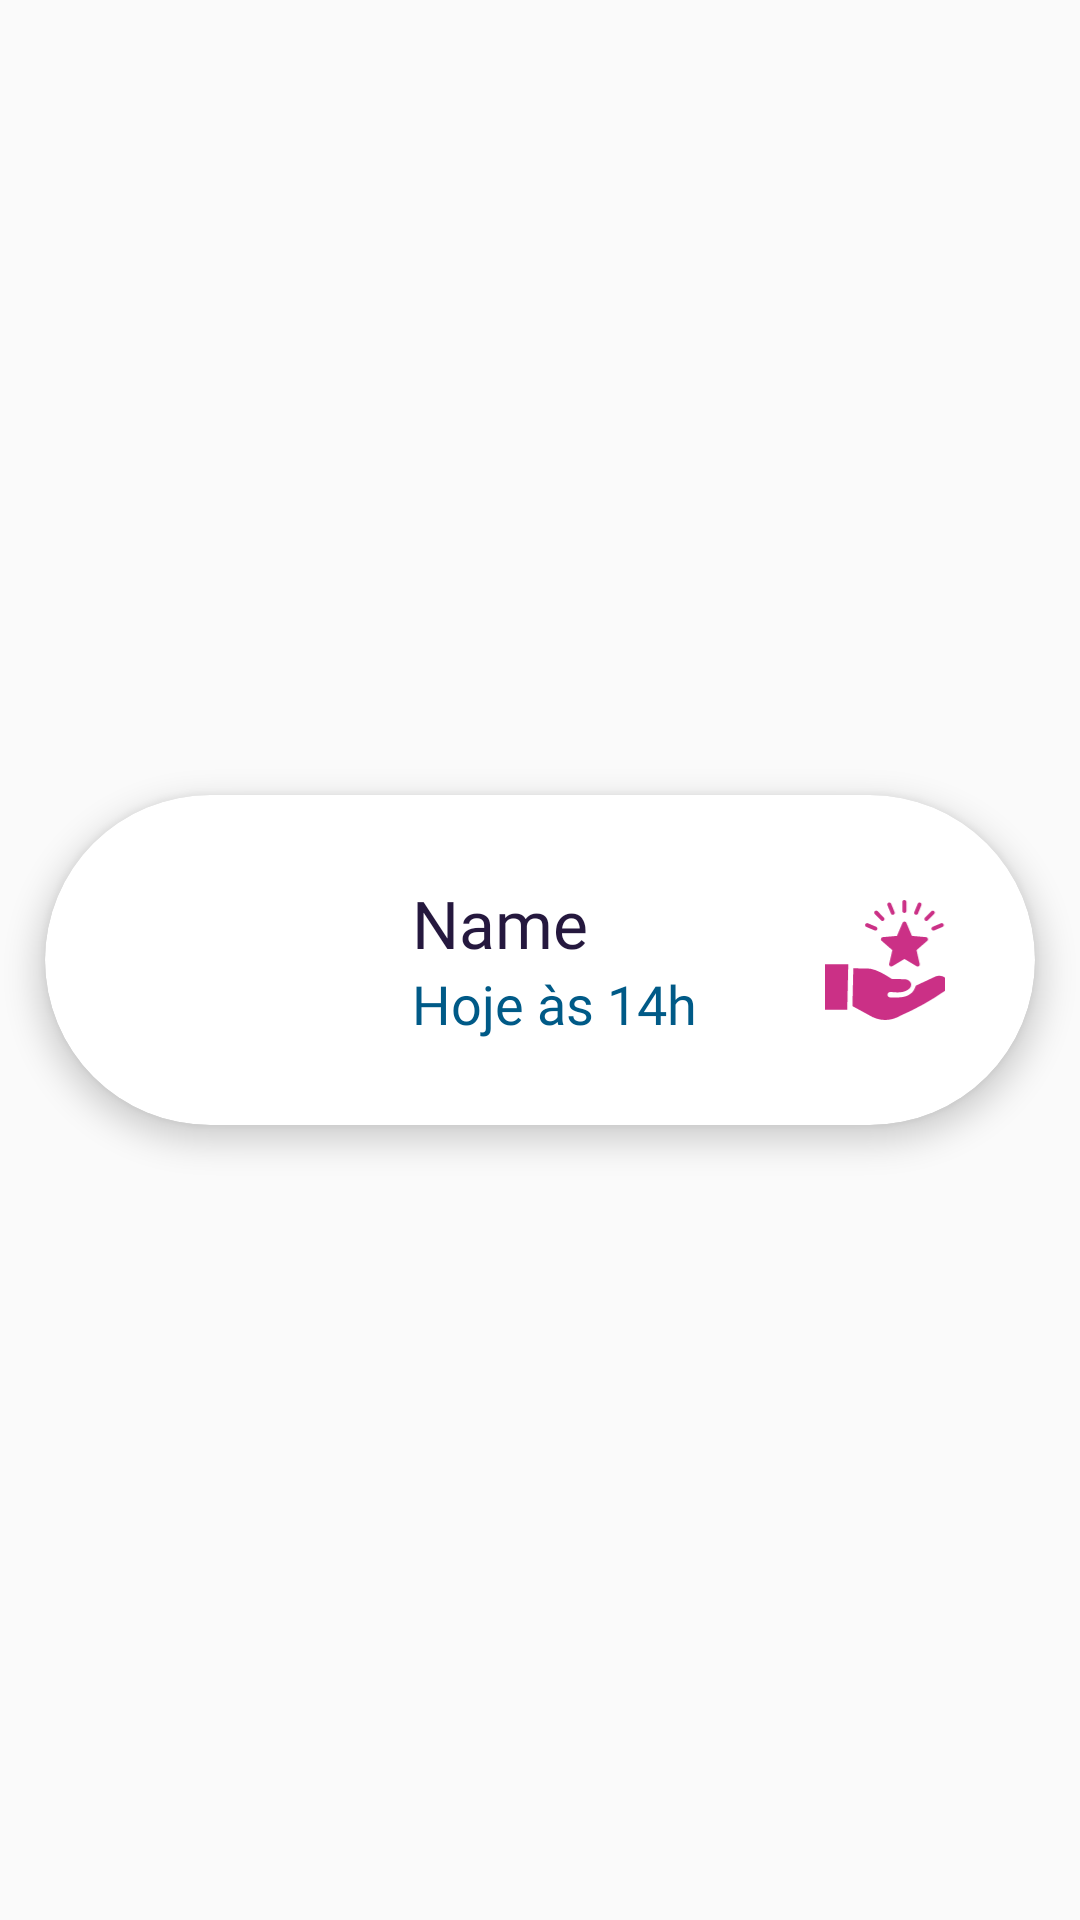

Point at icon controls on the screen. Image size 1080×1920, points as point (x, y).
historic received feedback: point (885, 960)
